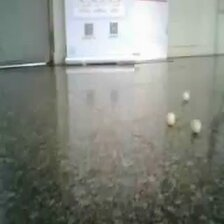tennis: (160, 193, 203, 224), (72, 108, 95, 137), (111, 75, 128, 95), (1, 87, 8, 113)
